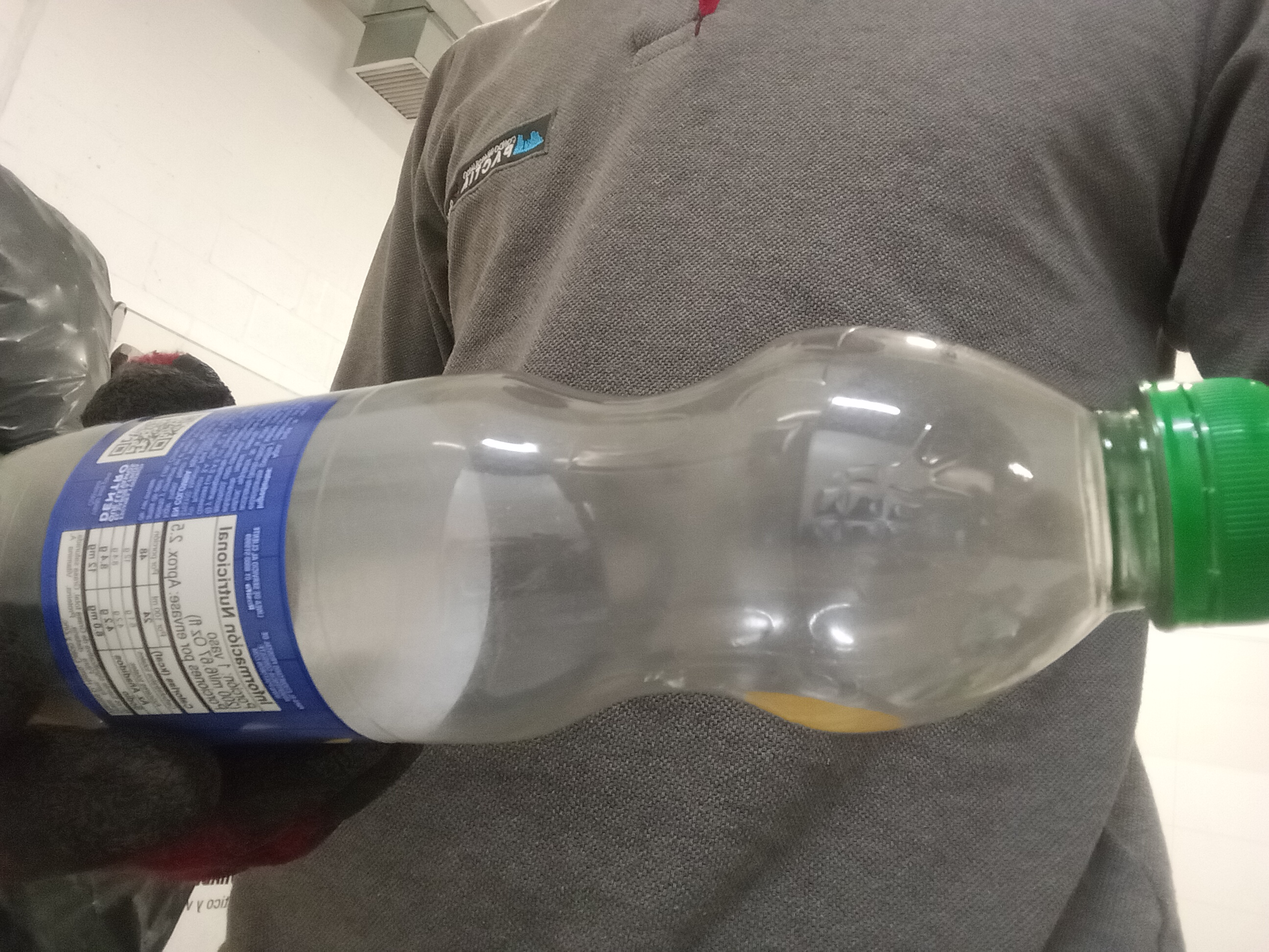Plastico: (5, 321, 1269, 745)
